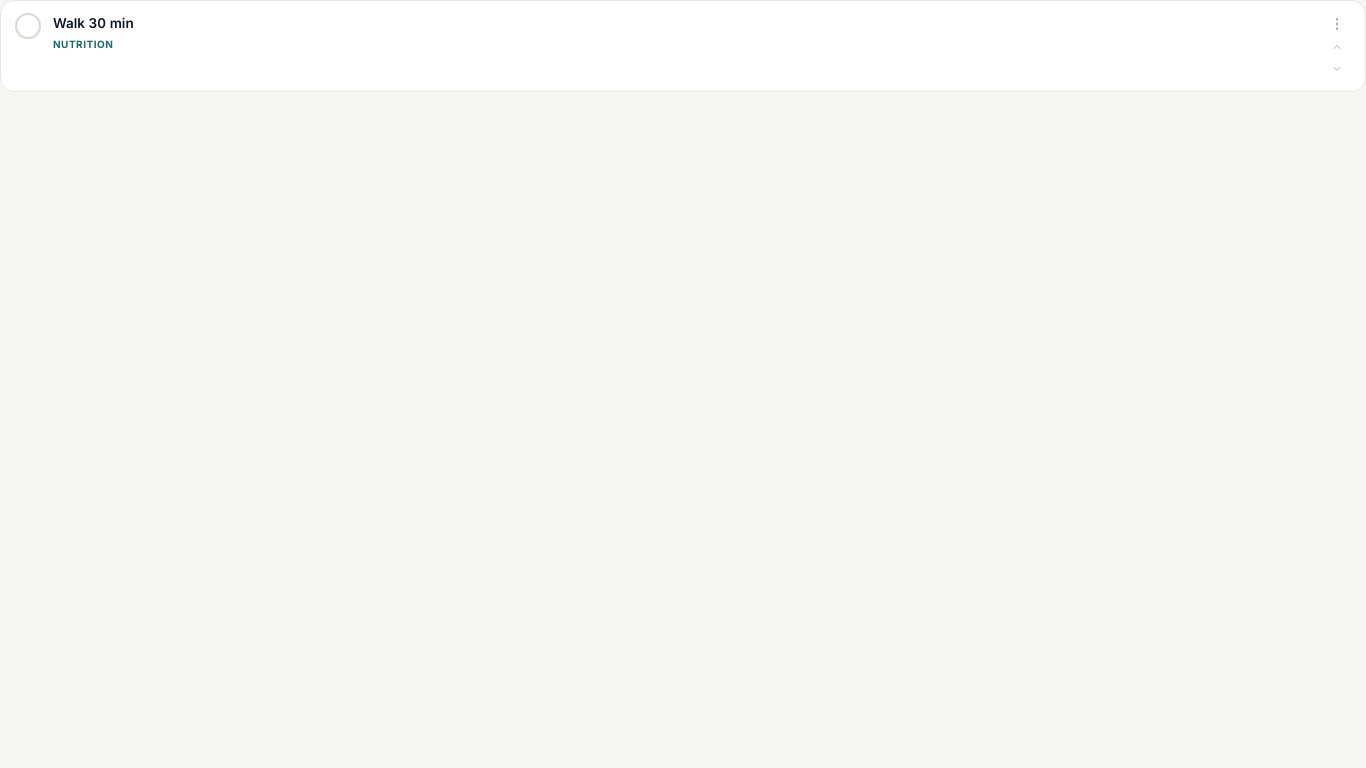
ProtocolList › opens skip sheet when kebab button is clicked
Click the button named "skip options" at (1337, 24), box [1323,13,1351,35]
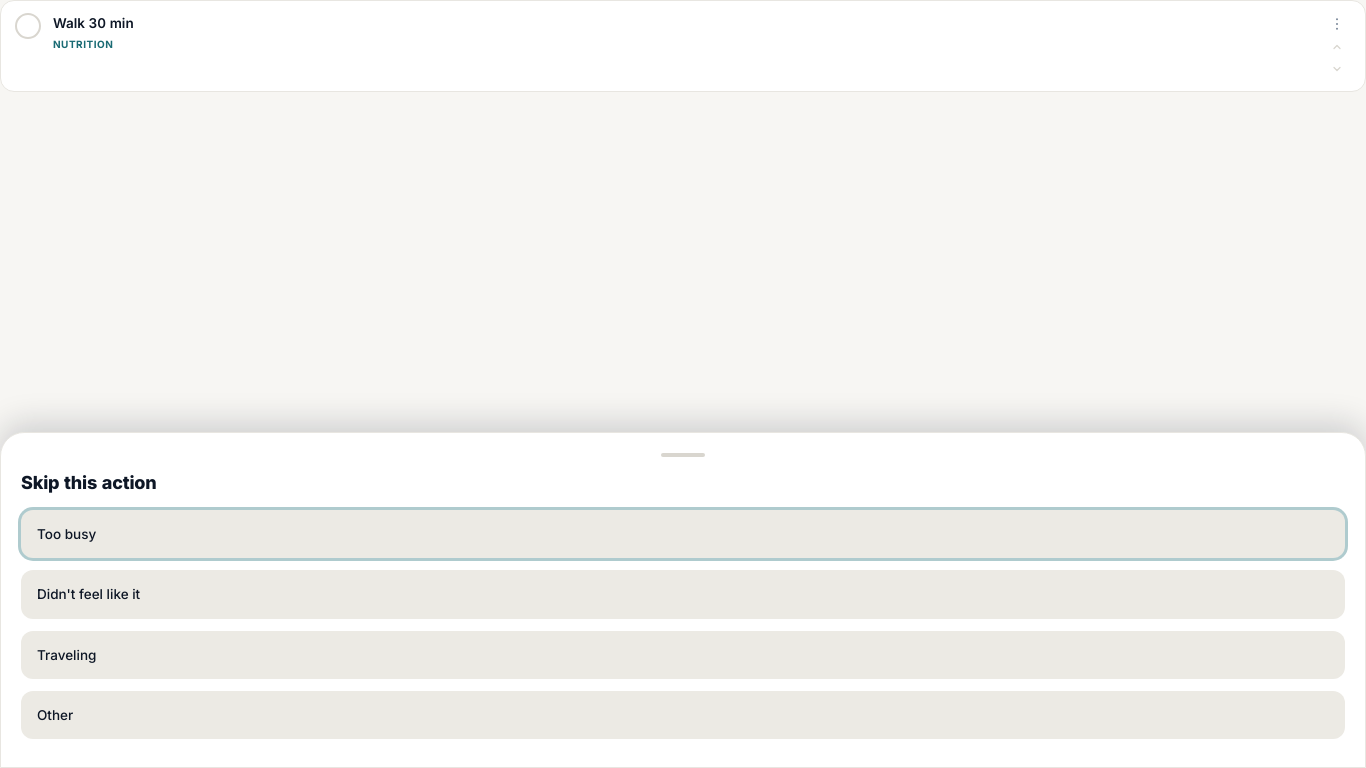
Expected: the button "Too busy" is shown, [21,510,1345,558]
Expected: the button "Didn't feel like it" is shown, [21,570,1345,619]
Expected: the button "Traveling" is shown, [21,630,1345,679]
